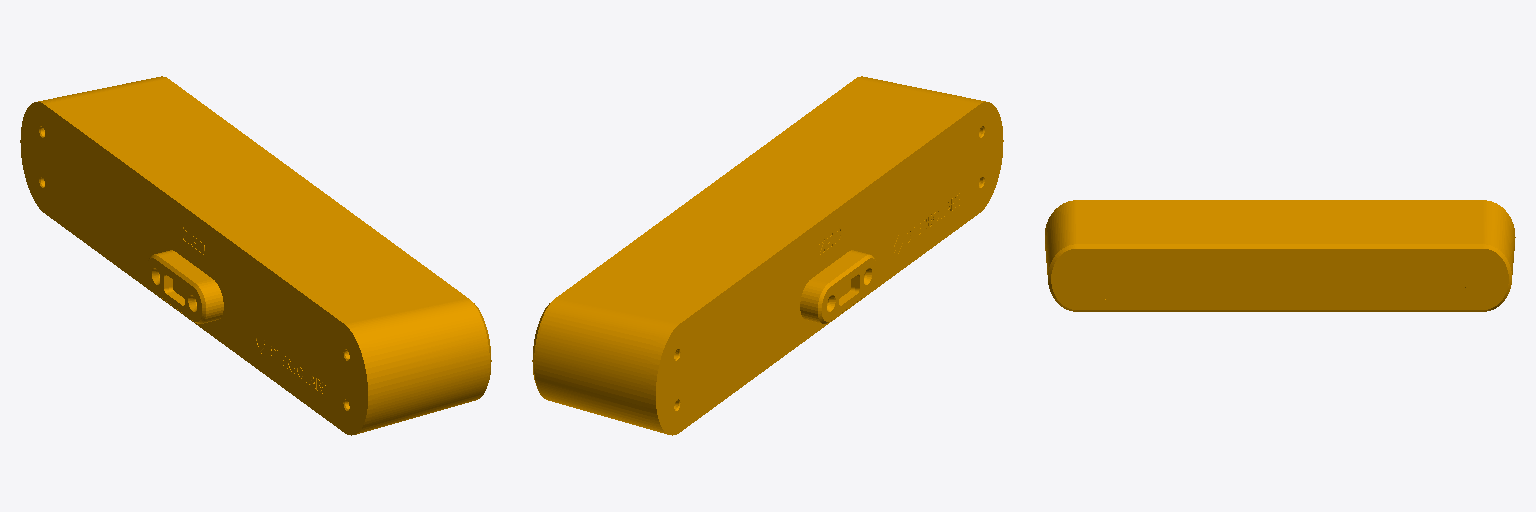
The robot description file, URDF, robot "zed2i":
<?xml version="1.0"?>
<!-- Written by tools/assemble.py from zed2i.xml: the same robot. Edit the MJCF, not this file. -->
<robot name="zed2i">
  <link name="camera">
    <inertial><origin xyz="0.005883031237 -1.88114726e-05 8.277464171e-06" rpy="-1.569770888 -1.562370321 3.140567062"/><mass value="0.1702301562"/><inertia ixx="0.0003906033227" ixy="0" ixz="0" iyy="0.0003829209898" iyz="0" izz="3.256628803e-05"/></inertial>
    <visual><origin xyz="0 0 0" rpy="0 0 0"/><geometry><mesh filename="meshes/visual/zed2i_camera_vis.obj"/></geometry></visual>
    <collision><origin xyz="0 0 0" rpy="0 0 0"/><geometry><mesh filename="meshes/collision/zed2i_camera_col.obj"/></geometry></collision>
  </link>
  <link name="left_optical">
    <inertial><origin xyz="0 0 0" rpy="0 0 0"/><mass value="1e-09"/><inertia ixx="1e-06" ixy="0" ixz="0" iyy="1e-06" iyz="0" izz="1e-06"/></inertial>
  </link>
  <joint name="left_optical_fixed" type="fixed"><parent link="camera"/><child link="left_optical"/><origin xyz="0.02765829698 0.05997967017 0.0001905187281" rpy="-1.570744834 -9.166928726e-07 -1.57080767"/></joint>
  <link name="right_optical">
    <inertial><origin xyz="0 0 0" rpy="0 0 0"/><mass value="1e-09"/><inertia ixx="1e-06" ixy="0" ixz="0" iyy="1e-06" iyz="0" izz="1e-06"/></inertial>
  </link>
  <joint name="right_optical_fixed" type="fixed"><parent link="camera"/><child link="right_optical"/><origin xyz="0.02765693576 -0.06002032814 0.0001906287312" rpy="-1.570744834 -9.166928726e-07 -1.57080767"/></joint>
</robot>

--- Facts derived from the render (not from the file) ---
Views: 3 orthographic renders of the robot side by side, from view 1: azimuth 30°, elevation 25°; view 2: azimuth 150°, elevation 25°; view 3: azimuth 270°, elevation 25°.
Robot: zed2i — 3 links, 2 joints (2 fixed); root link camera; default pose: every joint at zero.
Visible links, largest first — view 1: camera; view 2: camera; view 3: camera.
Link boxes in pixels (<box>): camera: <box>20,76,491,435</box>; camera: <box>532,76,1003,435</box>; camera: <box>1045,200,1515,311</box>.
Bounding box of the posed robot: 0.0431 × 0.1753 × 0.0302 m (x, y, z).
Meshes: 1 distinct files referenced, 1 mesh visuals loaded (1 OBJ).
